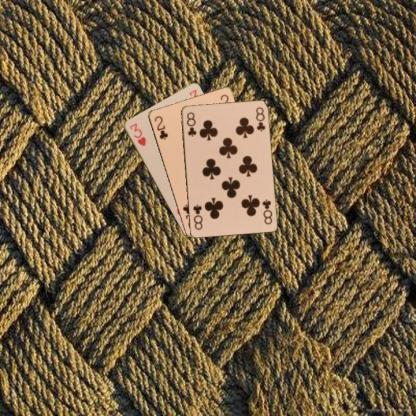2c: (152, 114, 169, 140)
3h: (127, 121, 147, 148)
8c: (260, 196, 274, 226), (184, 109, 198, 138)
